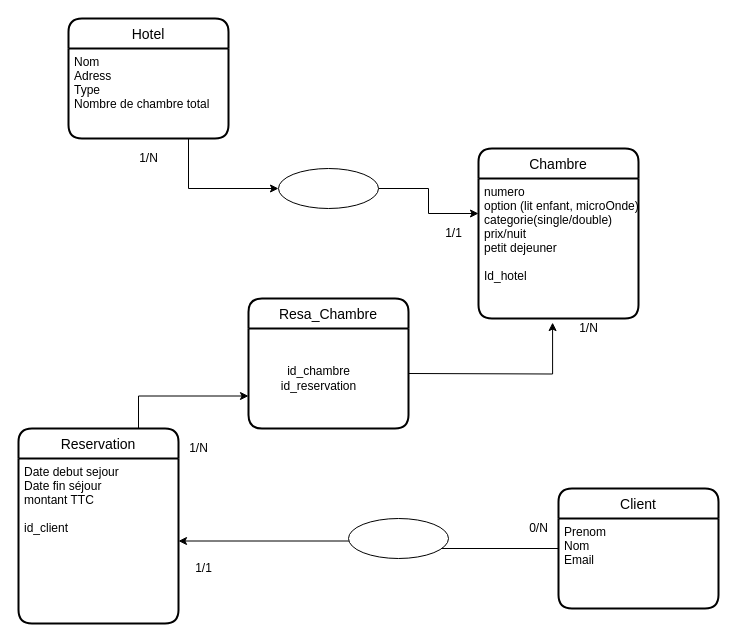
This 736x641 diagram has some shape labels left out. Each missing label, with the centre of its shape:
"fait" goes at point 398,538.
"Possède" goes at point 328,188.
